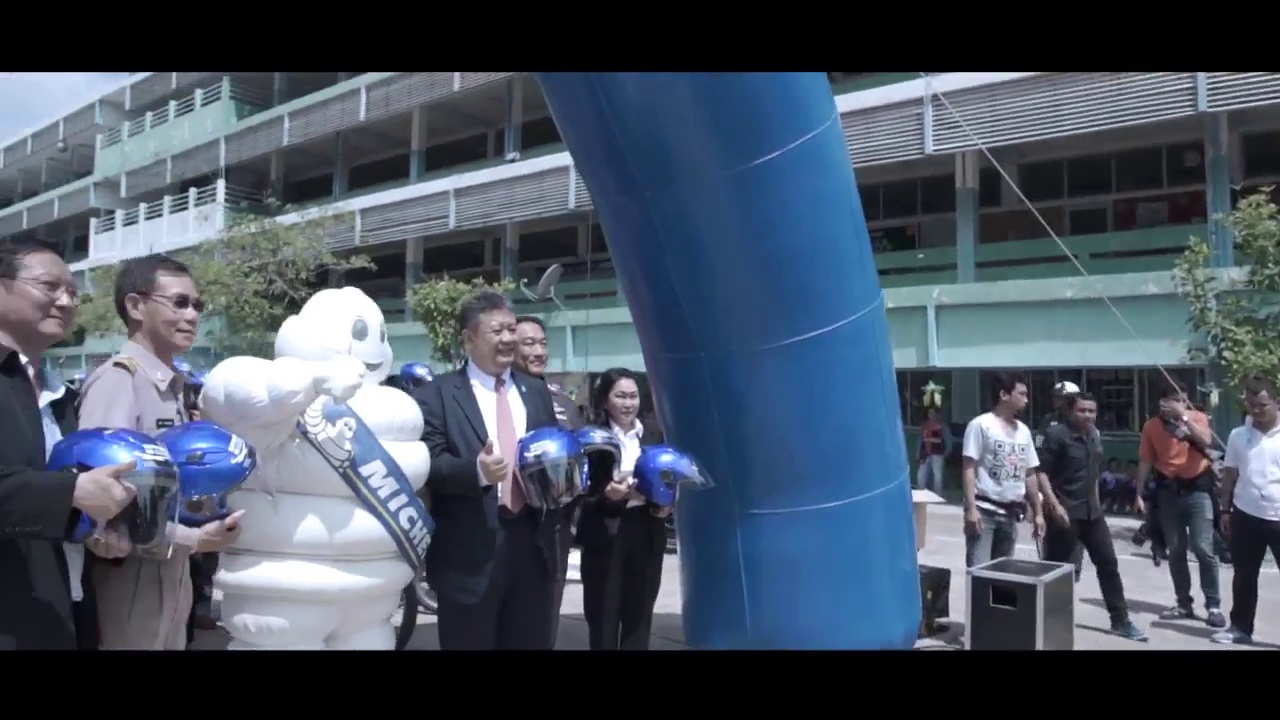helmet: (49, 422, 169, 558), (167, 424, 261, 522), (513, 417, 580, 512), (642, 433, 707, 510), (589, 431, 623, 493)
